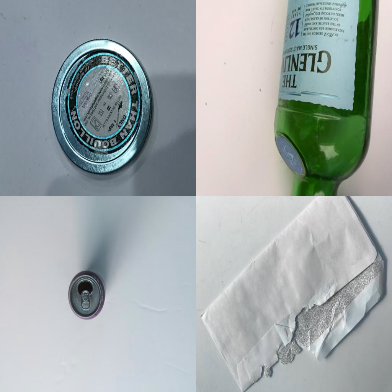glass: (275, 1, 380, 194)
metal: (50, 38, 153, 175), (67, 271, 105, 320)
paper: (196, 195, 392, 392)
